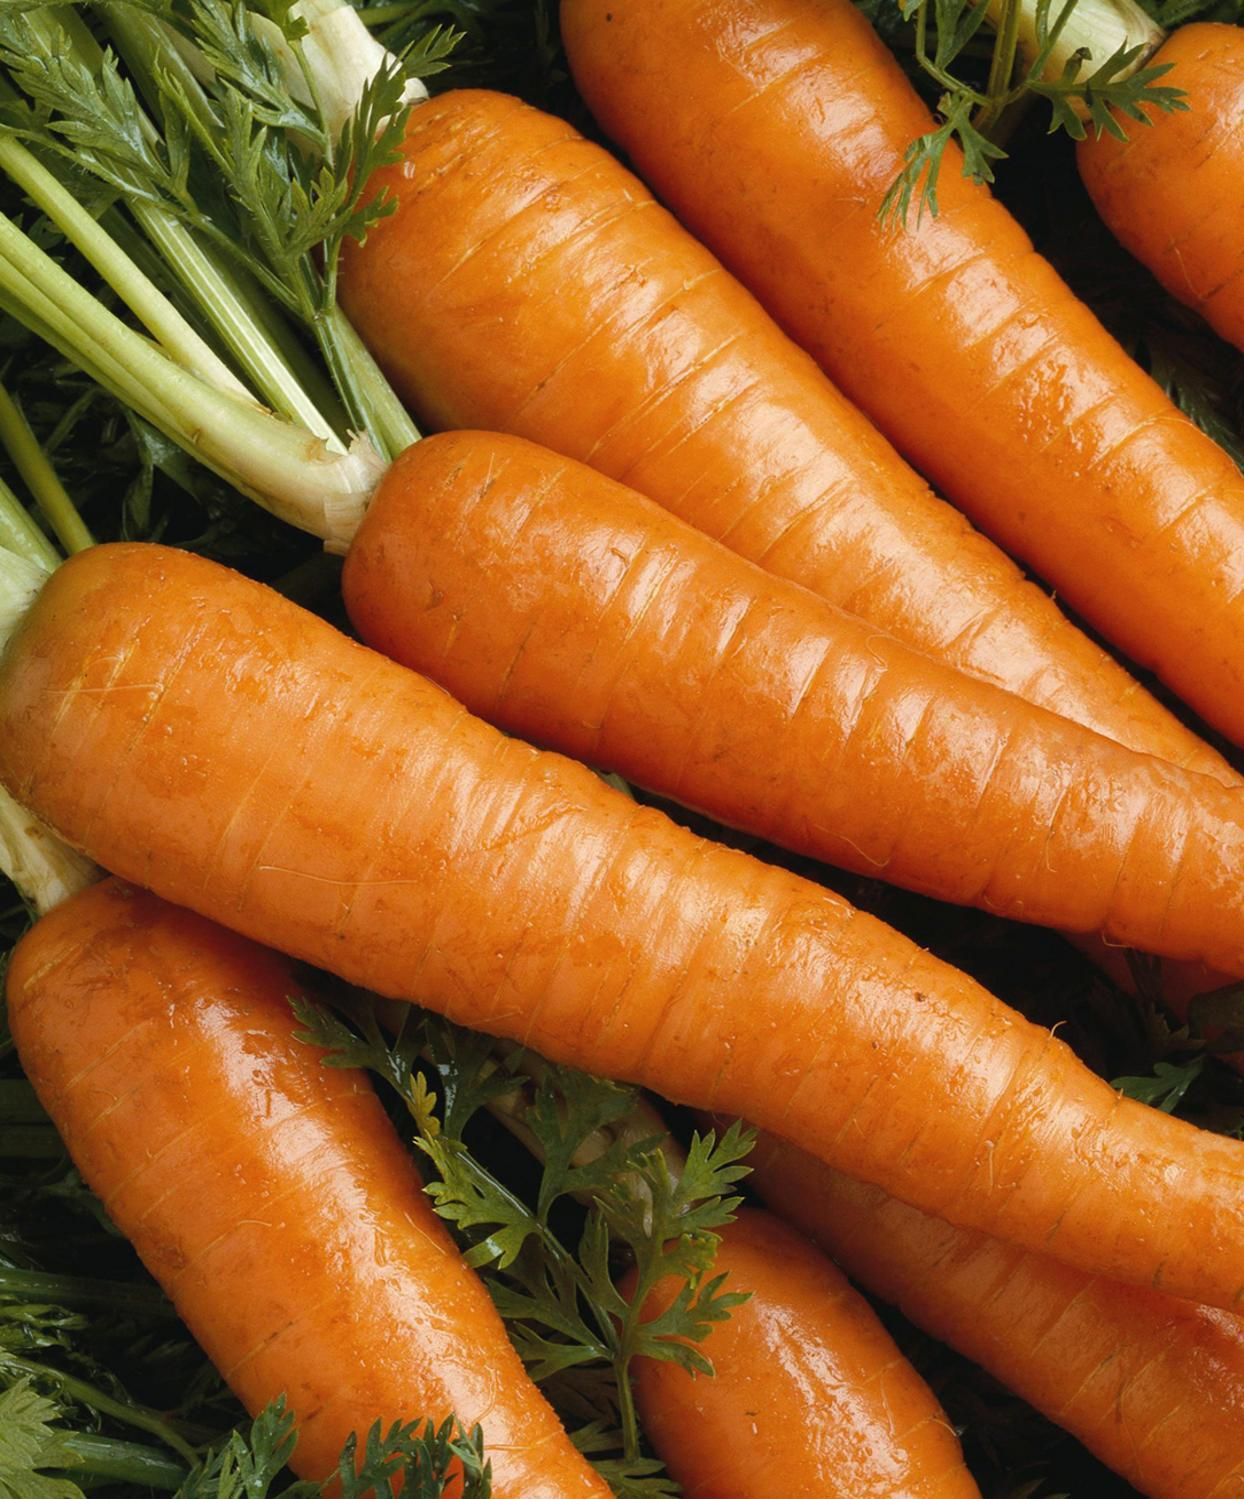carrot: (44, 59, 1244, 1499)
